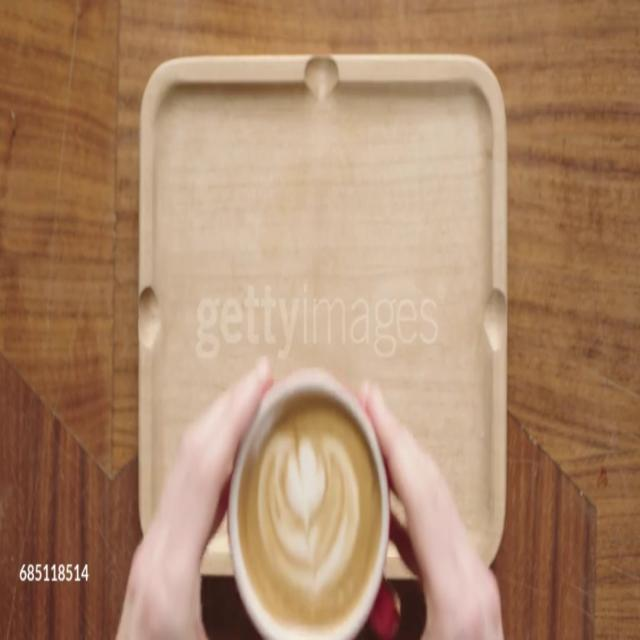cup: (229, 366, 400, 640)
tray: (139, 54, 507, 580)
